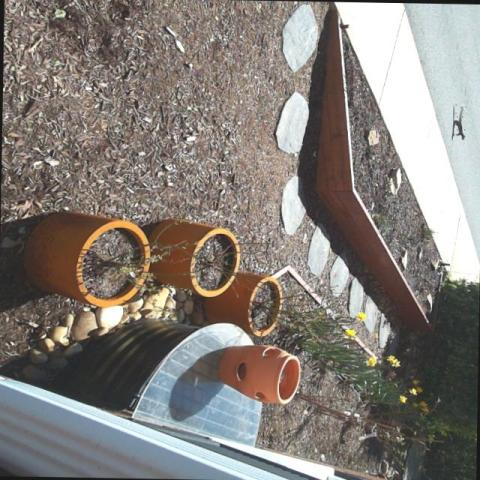small_animal: (450, 101, 469, 144)
